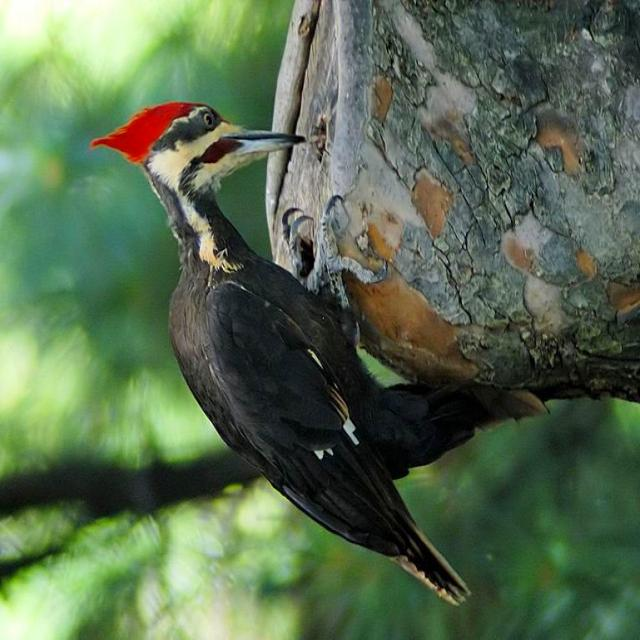woodpecker: (94, 102, 489, 604)
